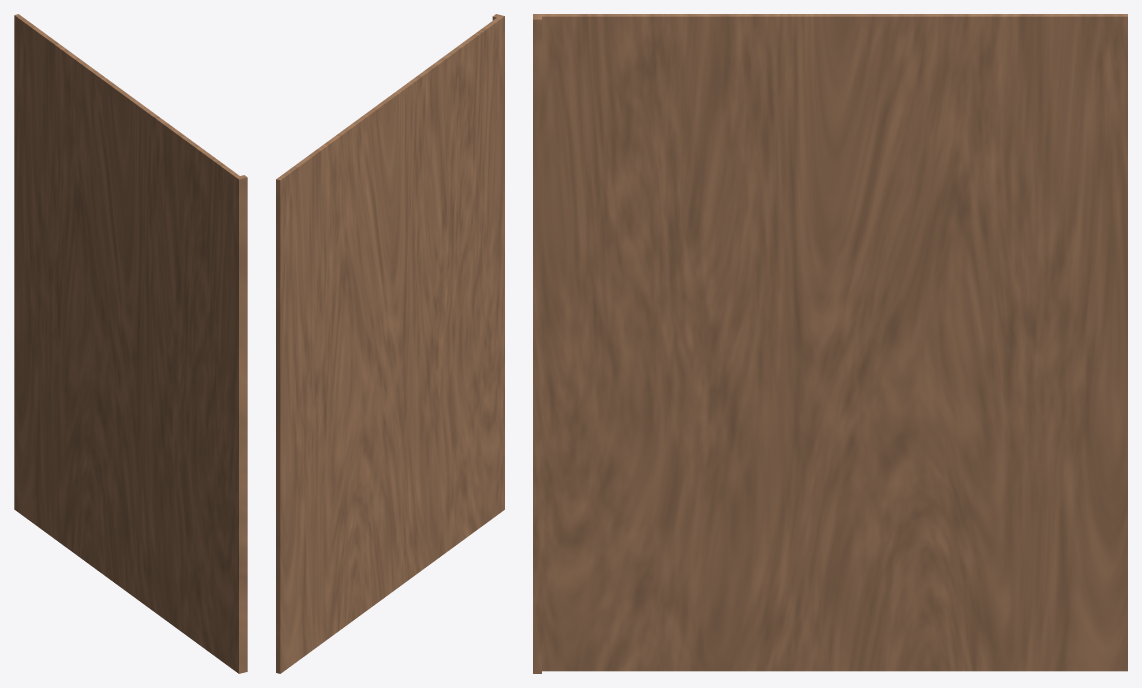
The model's file is ClosetDoorL.glb.
3 views of the same model, side by side, from view 1: azimuth 30°, elevation 25°; view 2: azimuth 150°, elevation 25°; view 3: azimuth 270°, elevation 25° (orthographic). The views are drawn at different scales.
Parts seen in each view (by area): view 1: Closet Door L; view 2: Closet Door L; view 3: Closet Door L.
Boxes of the visible parts, x1,y1,x2,y2 form: Closet Door L: (14,14,247,673); Closet Door L: (276,14,504,673); Closet Door L: (533,14,1127,673).
Size of the model in its own units: 0.1 by 5.4 by 4.45.
1 material, 1 textured.
